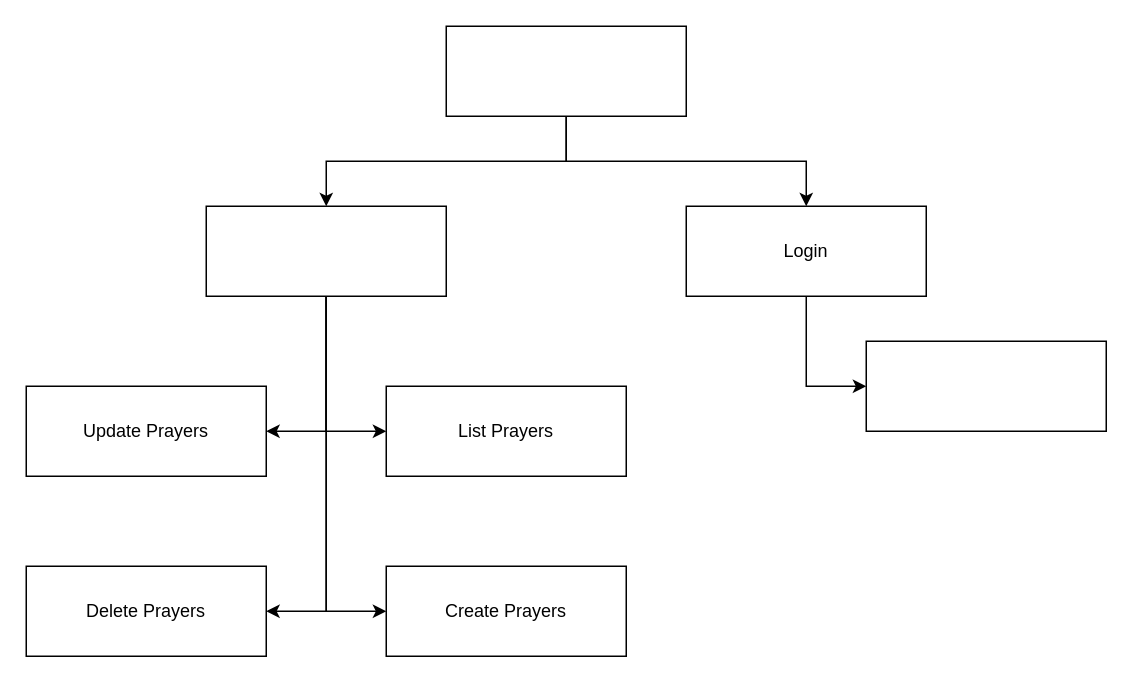
This 1133x683 diagram has some shape labels left out. Here are the shapes that lost their labels. From the top down, the centre of each, then its label:
At point 565,70: "Home Page".
At point 325,250: "Prayers".
At point 985,385: "Registration".
